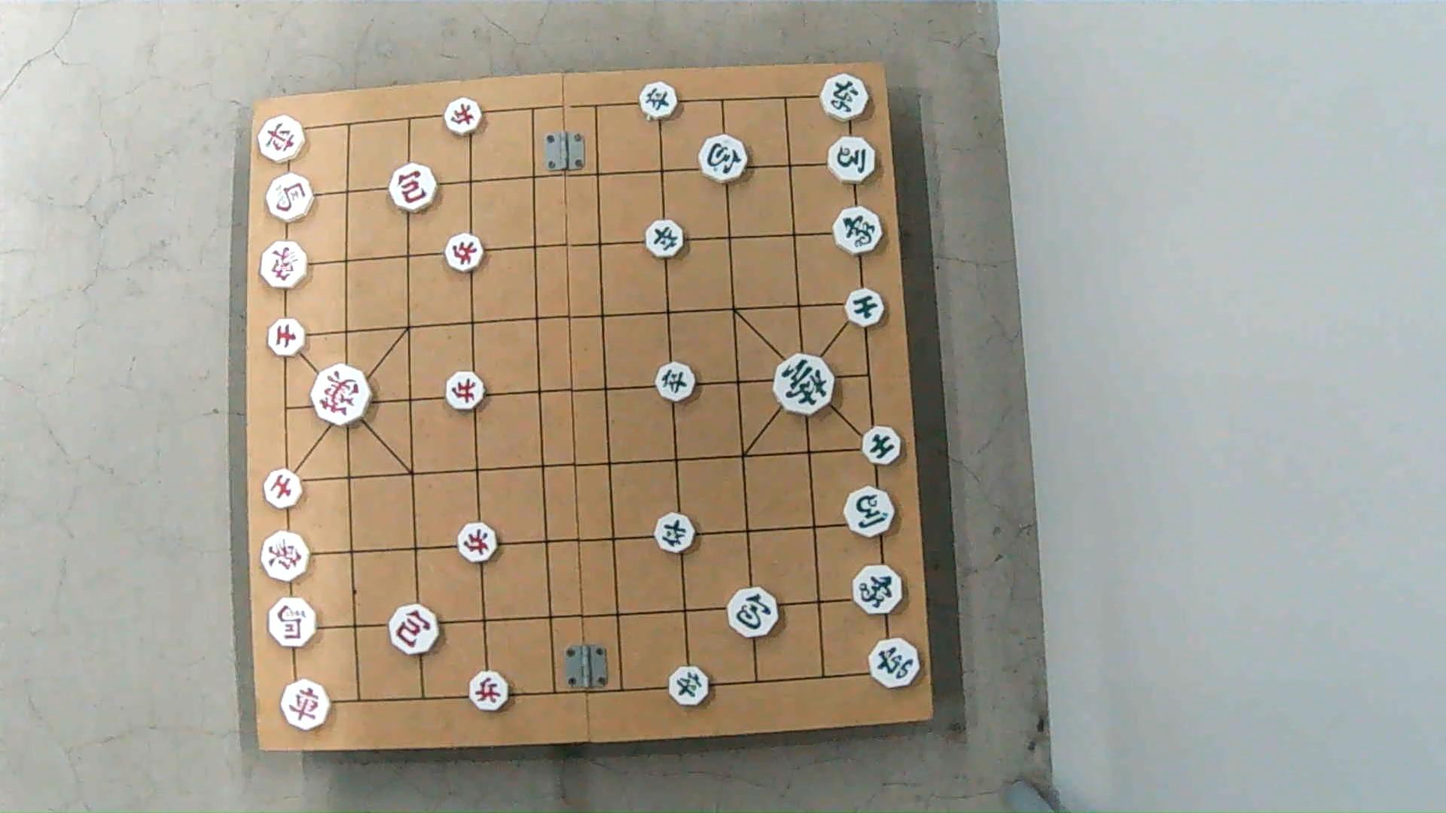cha_green: (869, 641, 924, 688), (822, 76, 873, 120)
cha_red: (279, 681, 330, 727), (258, 118, 308, 162)
jol_green: (667, 668, 713, 705), (653, 364, 698, 400), (651, 517, 696, 553), (643, 222, 685, 257), (639, 84, 681, 119)
jol_red: (468, 673, 512, 710), (456, 526, 501, 562), (445, 98, 486, 136), (445, 373, 489, 408), (446, 236, 487, 269)
ma_green: (842, 489, 896, 534), (825, 137, 877, 181)
ma_red: (267, 600, 318, 646), (264, 175, 313, 221)
po_green: (727, 584, 780, 637), (700, 139, 750, 182)
po_red: (390, 607, 444, 651), (388, 167, 438, 212)
sa_green: (862, 429, 905, 465), (846, 291, 888, 327)
sa_red: (261, 470, 304, 507), (268, 318, 304, 354)
sang_green: (851, 565, 904, 617), (831, 204, 882, 258)
sang_red: (261, 534, 313, 578), (261, 245, 310, 289)
wang_green: (773, 360, 835, 415)
wang_red: (310, 370, 374, 425)
